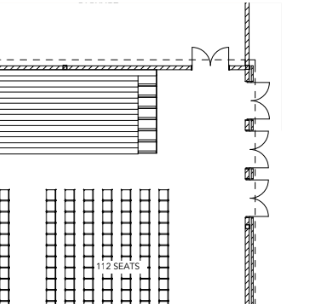double door: (189, 44, 233, 71), (246, 81, 273, 119), (247, 129, 271, 170), (248, 179, 271, 219)
wall: (1, 63, 194, 74), (243, 214, 253, 304), (242, 1, 252, 83), (227, 63, 258, 73)
